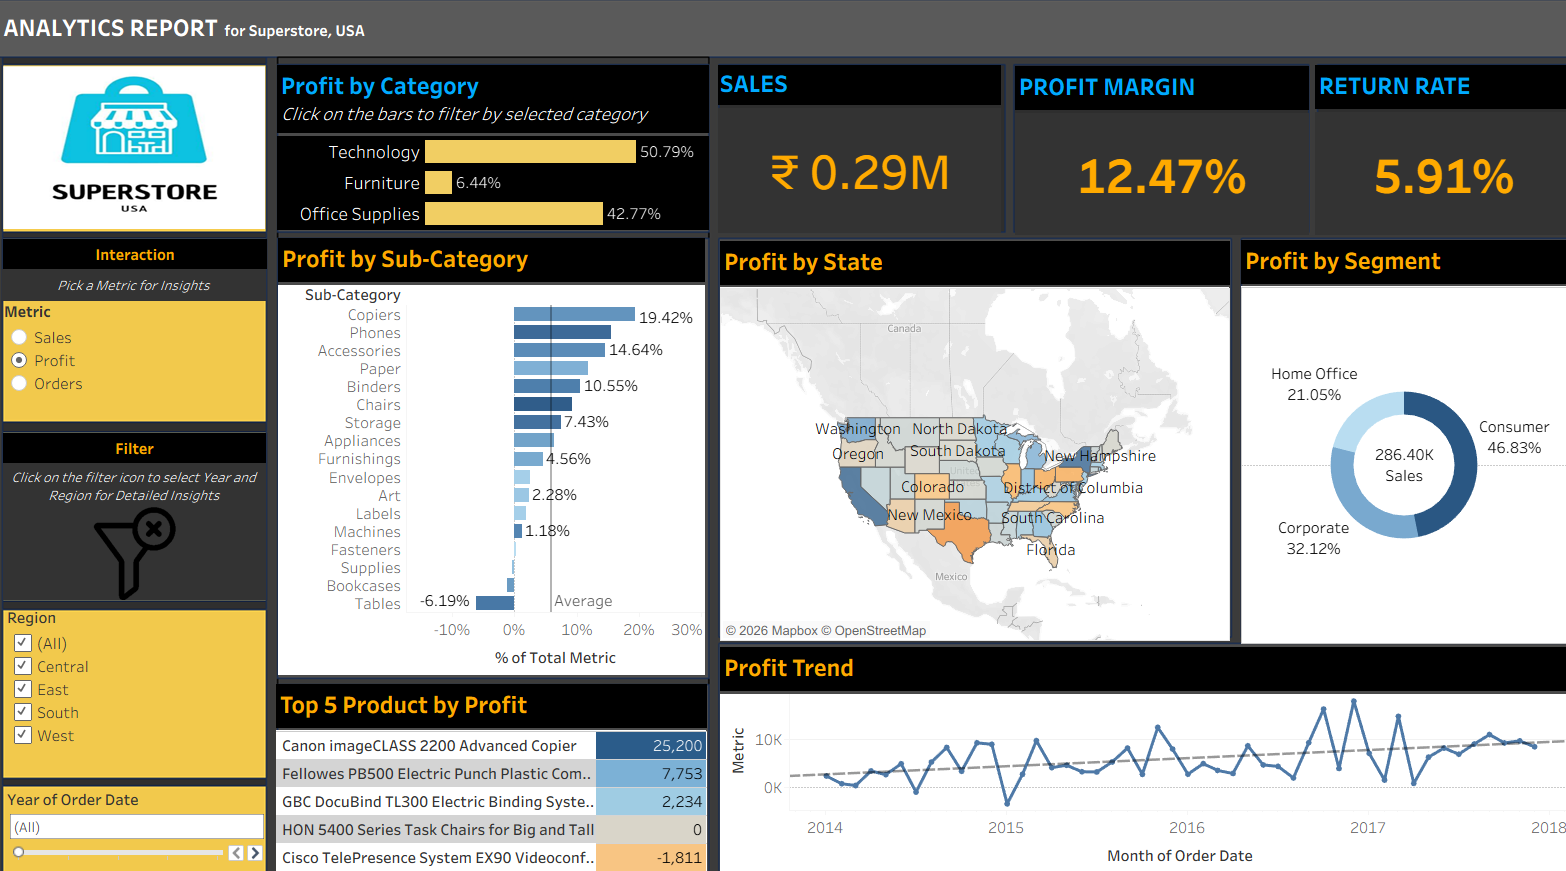

This screenshot's page, from the dashboard's own definition file:
{"tool":"tableau","page":{"name":"Analytics Report","canvas":[1600,900],"ordinal":0},"visuals":[{"type":"image","param":"Image/Slide1.PNG","box":[8,8,1584,884]},{"type":"text","box":[15,16,434,48]},{"type":"worksheet","title":"Sales By Category","mark":"Automatic","rows":["Category"],"cols":["Calculation_1255958603579395"],"box":[292,78,432,165]},{"type":"worksheet","title":"SALES","mark":"Automatic","box":[733,78,283,168]},{"type":"worksheet","title":"RETURN RATE","mark":"Automatic","box":[1330,78,257,170]},{"type":"image","param":"Image/Logo - Copy.png","box":[18,79,262,167]},{"type":"worksheet","title":"PROFIT MARGIN","mark":"Automatic","box":[1030,79,294,169]},{"type":"worksheet","title":"Sales By Sub-Category","mark":"Automatic","rows":["Sub-Category"],"cols":["Calculation_1255958603579395"],"box":[293,251,427,437]},{"type":"text","box":[18,252,264,30]},{"type":"worksheet","title":"Sales By Segment","mark":"Pie","rows":["Calculation_0145451171995653","Calculation_0145451172016135"],"box":[1256,253,327,404]},{"type":"worksheet","title":"Sales By State","mark":"Automatic","box":[735,254,510,400]},{"type":"text","box":[17,282,264,32]},{"type":"parameter","param":"[Parameters].[Parameter 1255958602371072]","box":[19,314,261,120]},{"type":"text","box":[18,446,263,30]},{"type":"text","box":[18,476,263,46]},{"type":"dashboard-object","box":[18,520,263,93]},{"type":"filter","title":"Sales By State","param":"[federated.15wvr6j06k6v871dcykzk197liuz].[none:Region:nk]","box":[18,616,268,182]},{"type":"worksheet","title":"Sales Trend","mark":"Line","rows":["Calculation_1255958603579395"],"cols":["Order Date"],"box":[735,660,851,226]},{"type":"worksheet","title":"Top 5 Products by Sales","mark":"Square","box":[291,697,431,188]}]}

Visuals, with their boxes in screenshot pixels (x1, y1, x2, y2), scaled from the page's 1600x900 canvas onto the 1566x871 screenshot:
image: [x1=8, y1=8, x2=1558, y2=863]
text: [x1=15, y1=15, x2=439, y2=62]
"Sales By Category" worksheet: [x1=286, y1=75, x2=709, y2=235]
"SALES" worksheet: [x1=717, y1=75, x2=994, y2=238]
"RETURN RATE" worksheet: [x1=1302, y1=75, x2=1553, y2=240]
image: [x1=18, y1=76, x2=274, y2=238]
"PROFIT MARGIN" worksheet: [x1=1008, y1=76, x2=1296, y2=240]
"Sales By Sub-Category" worksheet: [x1=287, y1=243, x2=705, y2=666]
text: [x1=18, y1=244, x2=276, y2=273]
"Sales By Segment" worksheet (Pie marks): [x1=1229, y1=245, x2=1549, y2=636]
"Sales By State" worksheet: [x1=719, y1=246, x2=1219, y2=633]
text: [x1=17, y1=273, x2=275, y2=304]
parameter: [x1=19, y1=304, x2=274, y2=420]
text: [x1=18, y1=432, x2=275, y2=461]
text: [x1=18, y1=461, x2=275, y2=505]
dashboard-object: [x1=18, y1=503, x2=275, y2=593]
"Sales By State" filter: [x1=18, y1=596, x2=280, y2=772]
"Sales Trend" worksheet (Line marks): [x1=719, y1=639, x2=1552, y2=857]
"Top 5 Products by Sales" worksheet (Square marks): [x1=285, y1=675, x2=707, y2=856]
